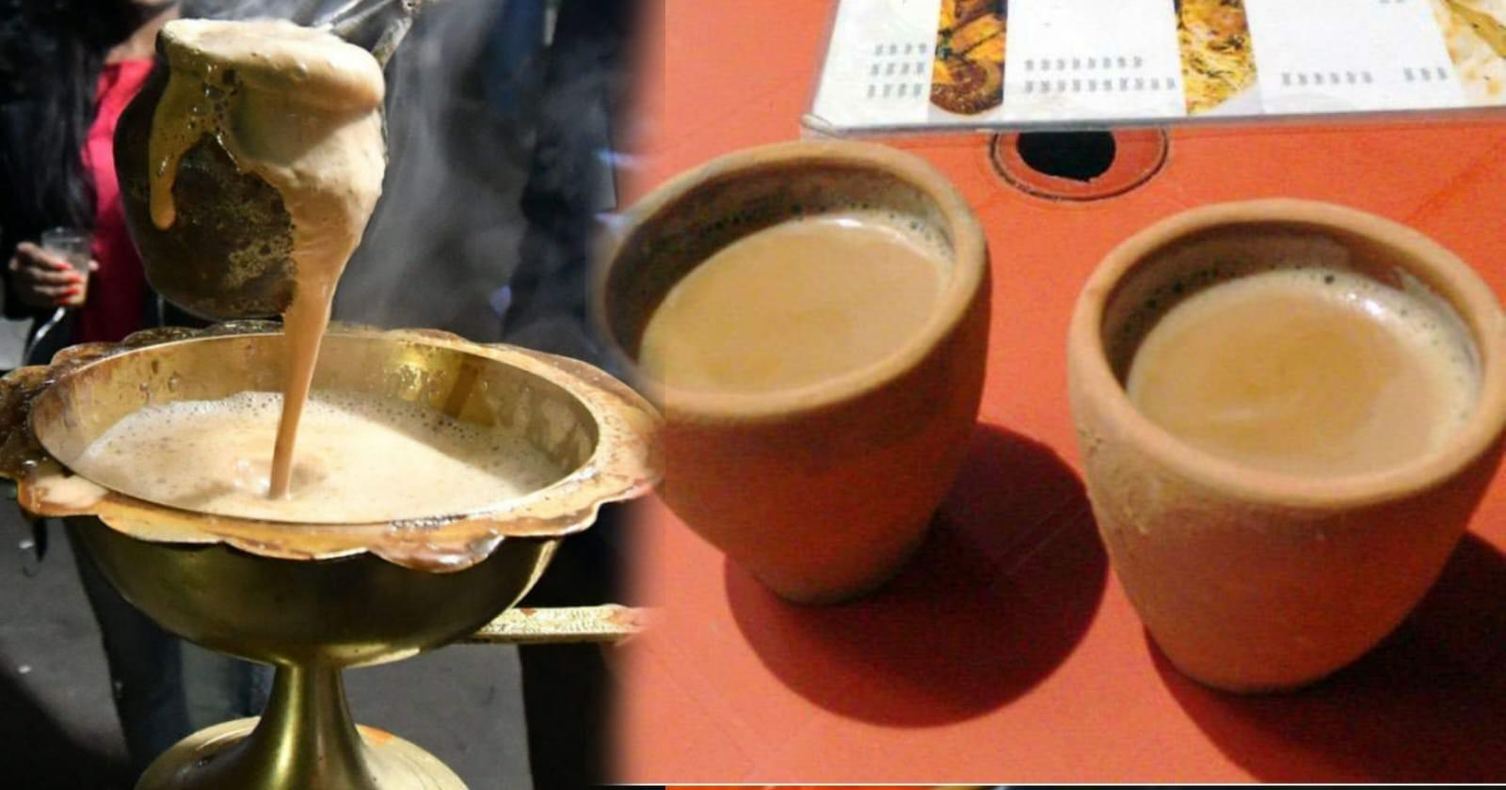Chai: (156, 18, 386, 474), (1119, 253, 1490, 495), (74, 393, 544, 523), (631, 208, 944, 397)
